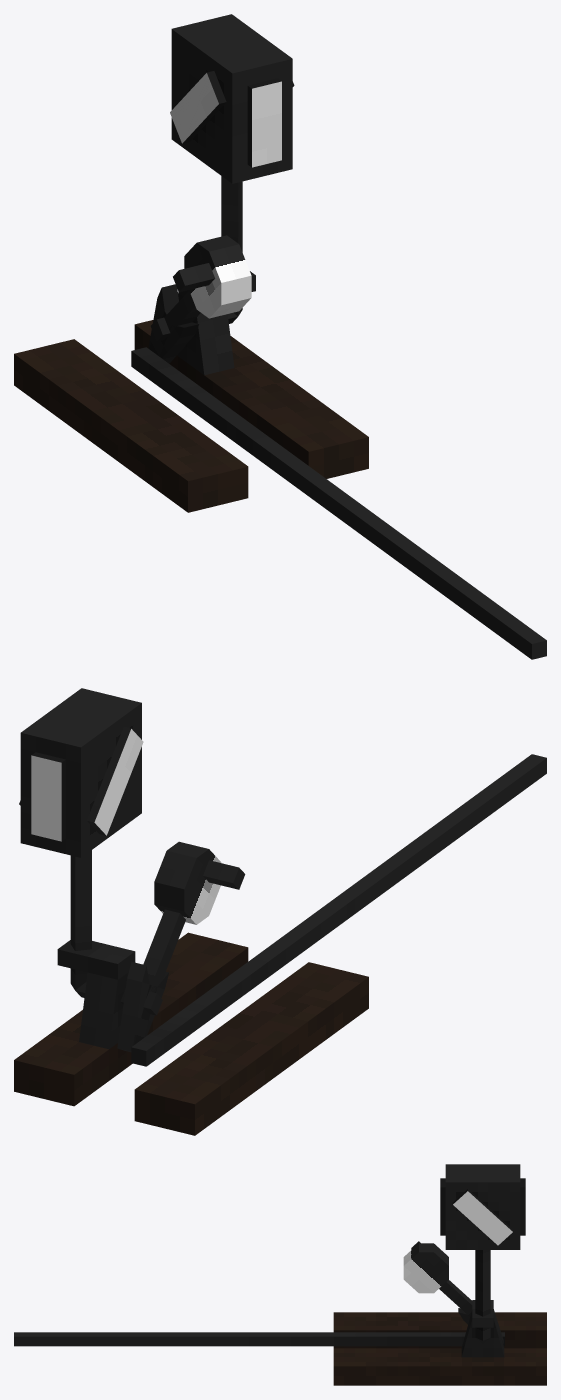
File: left_side_right_turn_on.obj
3 renders of one model, top to bottom at view 1: azimuth 30°, elevation 25°; view 2: azimuth 150°, elevation 25°; view 3: azimuth 270°, elevation 25°, orthographic. The views are drawn at different scales.
Parts seen in each view (by area): view 1: base; view 2: base; view 3: base.
Boxes of the visible parts, x1,y1,x2,y2 form: base: [14, 14, 546, 659]; base: [14, 688, 546, 1135]; base: [14, 1164, 546, 1385].
Size of the model in its own units: 0.8438 by 1.34 by 3.12.
1 material, 1 textured.
